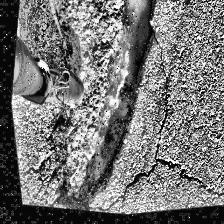pothole: (29, 0, 180, 222)
